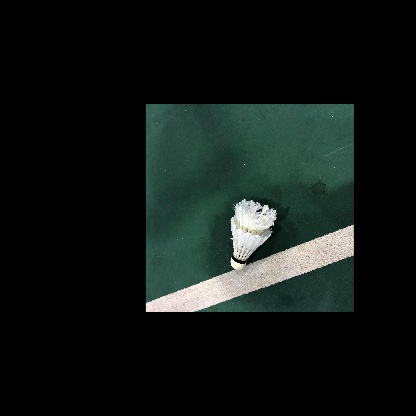ball_single: (230, 199, 278, 270)
